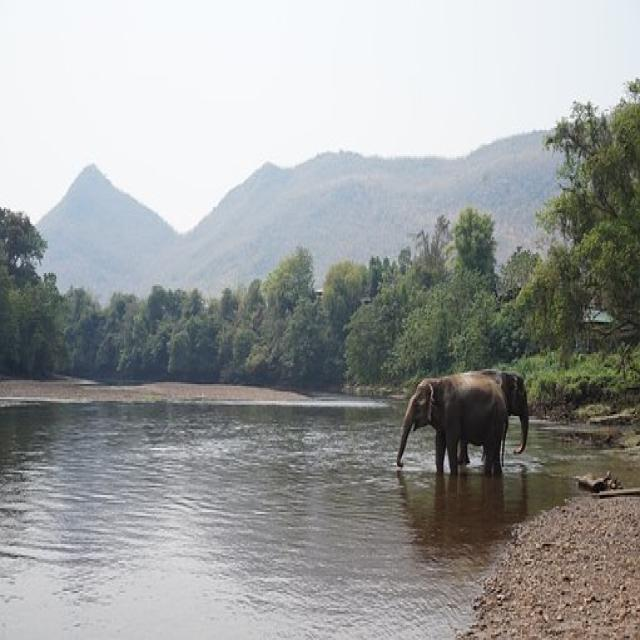Elephant: (372, 342, 548, 501)
